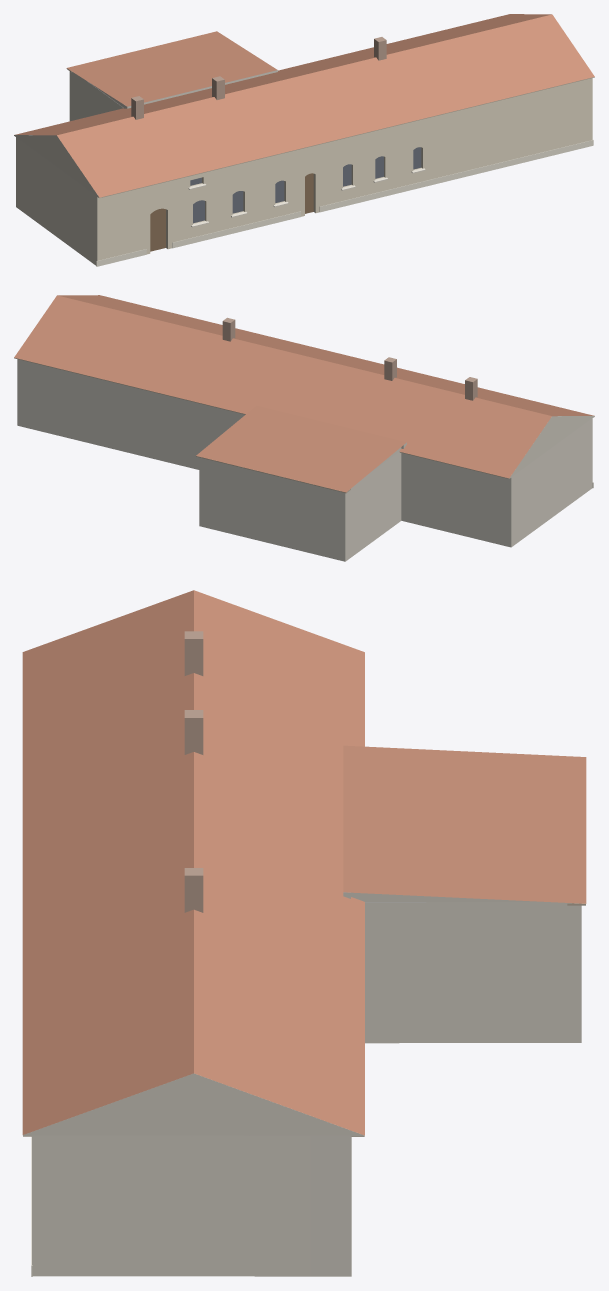
3 renders of one model, top to bottom at view 1: azimuth 30°, elevation 25°; view 2: azimuth 150°, elevation 25°; view 3: azimuth 270°, elevation 25°, orthographic. The views are drawn at different scales.
Visible parts, largest first — view 1: CP_523_b_Roof, CP_523_b_Masonry, CP_523_b_WingRoof_Rear, CP_523_b_Cornice_plinth_2, CP_523_b_Gable_L_gable, CP_523_b_Cornice_plinth_1, CP_523_b_Roof_EaveClosure_0, CP_523_b_AtticClosure; view 2: CP_523_b_Masonry, CP_523_b_Roof, CP_523_b_WingRoof_Rear, CP_523_b_Gable_L_gable, CP_523_b_Roof_EaveClosure_1; view 3: CP_523_b_Roof, CP_523_b_Masonry, CP_523_b_WingRoof_Rear, CP_523_b_Gable_R_gable, CP_523_b_AtticClosure, CP_523_b_Chimney_0, CP_523_b_Chimney_1, CP_523_b_Chimney_2.
Boxes of the visible parts, x1,y1,x2,y2 form: CP_523_b_Roof: (15, 14, 594, 197); CP_523_b_Masonry: (16, 71, 592, 265); CP_523_b_WingRoof_Rear: (67, 31, 277, 106); CP_523_b_Cornice_plinth_2: (319, 140, 593, 212); CP_523_b_Gable_L_gable: (14, 135, 101, 197); CP_523_b_Cornice_plinth_1: (172, 211, 300, 248); CP_523_b_Roof_EaveClosure_0: (98, 77, 594, 198); CP_523_b_AtticClosure: (90, 70, 277, 108); CP_523_b_Masonry: (17, 359, 592, 561); CP_523_b_Roof: (14, 295, 594, 478); CP_523_b_WingRoof_Rear: (196, 405, 406, 492); CP_523_b_Gable_L_gable: (505, 416, 594, 478); CP_523_b_Roof_EaveClosure_1: (14, 358, 510, 478); CP_523_b_Roof: (22, 590, 364, 1135); CP_523_b_Masonry: (32, 902, 581, 1276); CP_523_b_WingRoof_Rear: (343, 745, 586, 903); CP_523_b_Gable_R_gable: (23, 1073, 364, 1136); CP_523_b_AtticClosure: (343, 892, 543, 901); CP_523_b_Chimney_0: (184, 631, 203, 675); CP_523_b_Chimney_1: (184, 710, 203, 754); CP_523_b_Chimney_2: (184, 868, 203, 912).
Bounding box in the file's own units: 36.84 × 8.4 × 18.11.
